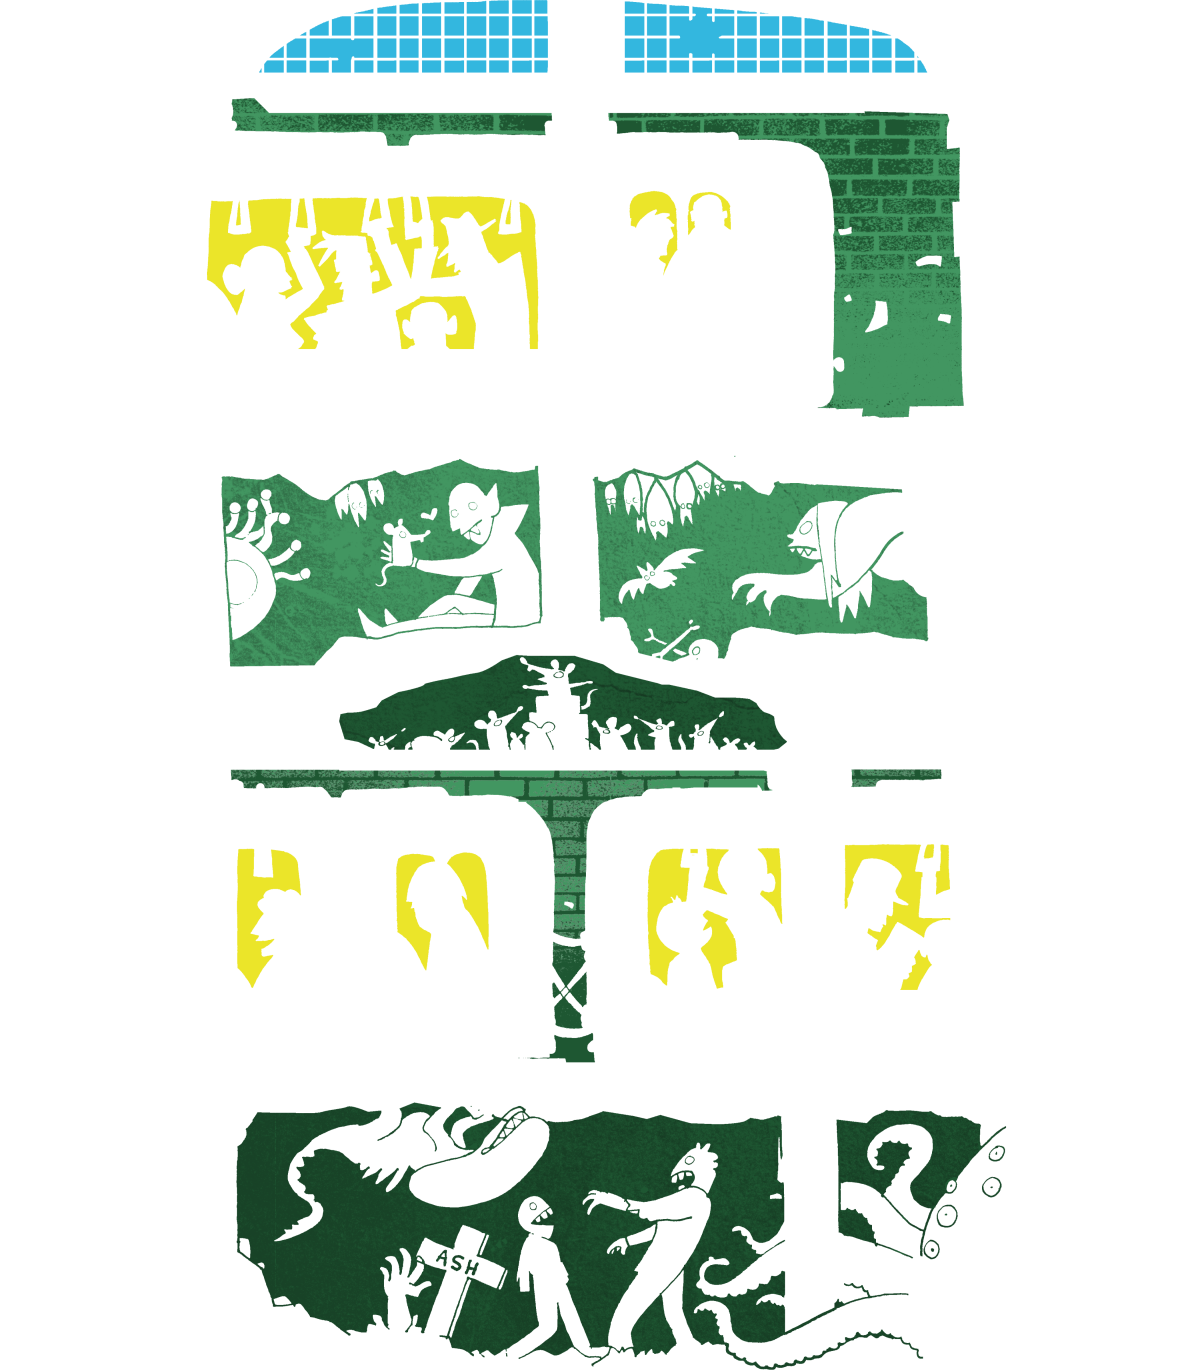design: (195, 3, 1024, 1371)
